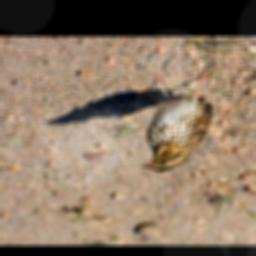Sparrow: (138, 66, 215, 174)
